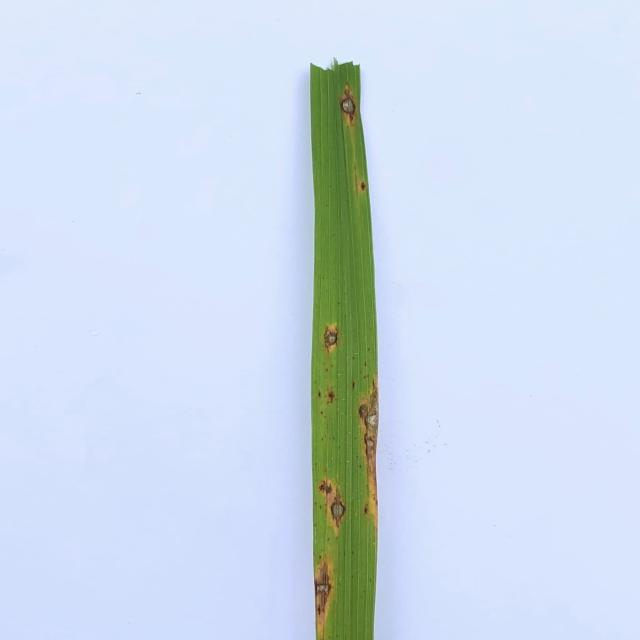leaf blast: (353, 378, 379, 518), (314, 556, 337, 636), (326, 488, 348, 534), (321, 318, 341, 357), (339, 87, 356, 126), (317, 475, 336, 498), (357, 177, 369, 196)
